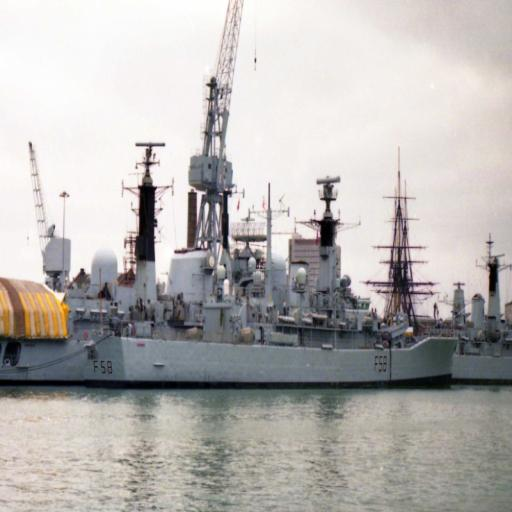Fragata: (19, 171, 464, 394)
